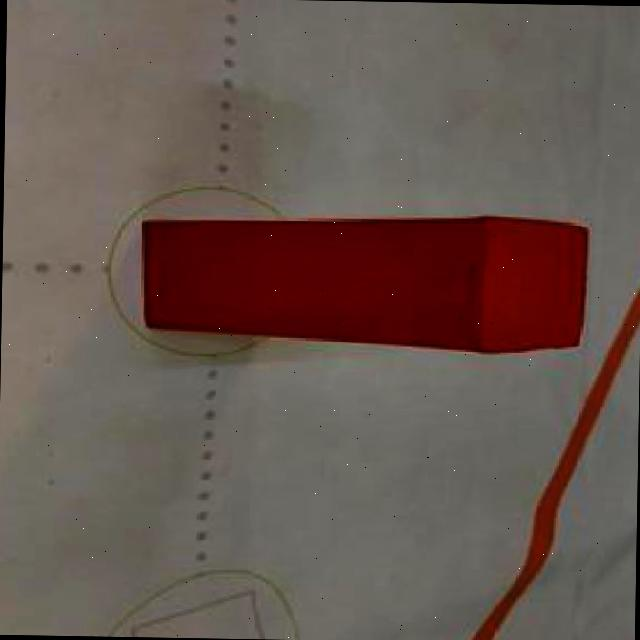redbox: (140, 214, 586, 346)
